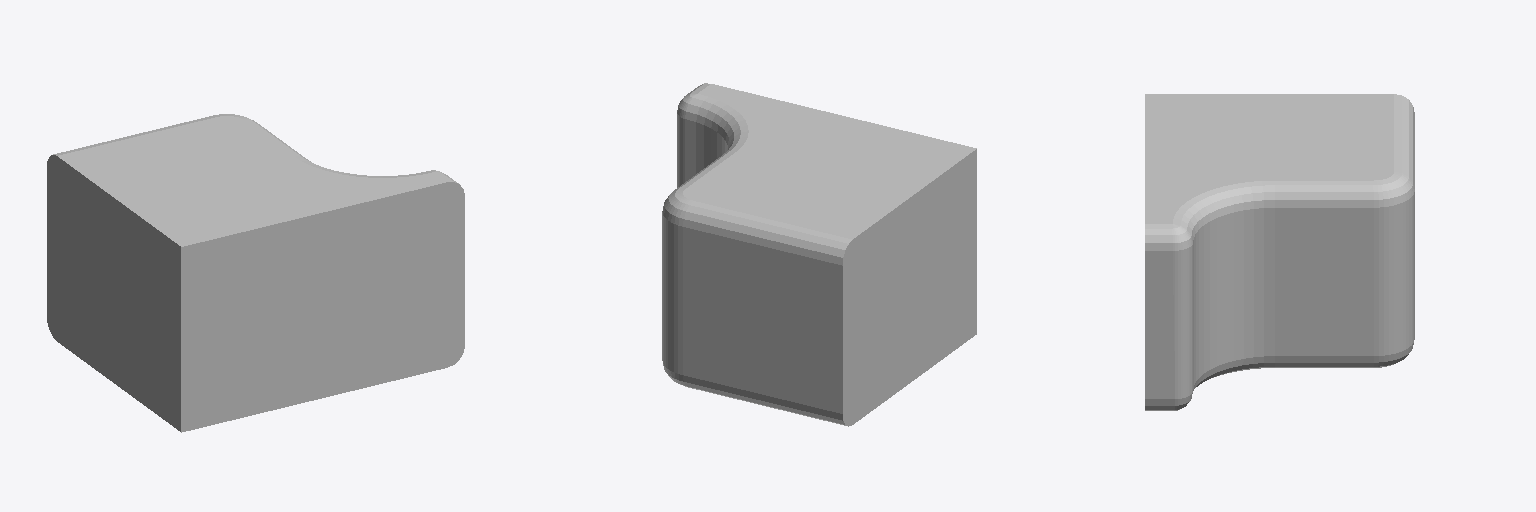
Rendered from trigger.obj.
The picture shows the model from 3 angles: view 1: azimuth 30°, elevation 25°; view 2: azimuth 150°, elevation 25°; view 3: azimuth 270°, elevation 25°; orthographic projection.
Parts seen in each view (by area): view 1: Trigger_model.007; view 2: Trigger_model.007; view 3: Trigger_model.007.
Boxes of the visible parts, x1,y1,x2,y2 form: Trigger_model.007: [47, 114, 464, 432]; Trigger_model.007: [662, 83, 976, 426]; Trigger_model.007: [1145, 94, 1414, 410].
Bounding box in the file's own units: 0.025 × 0.0156 × 0.0206.